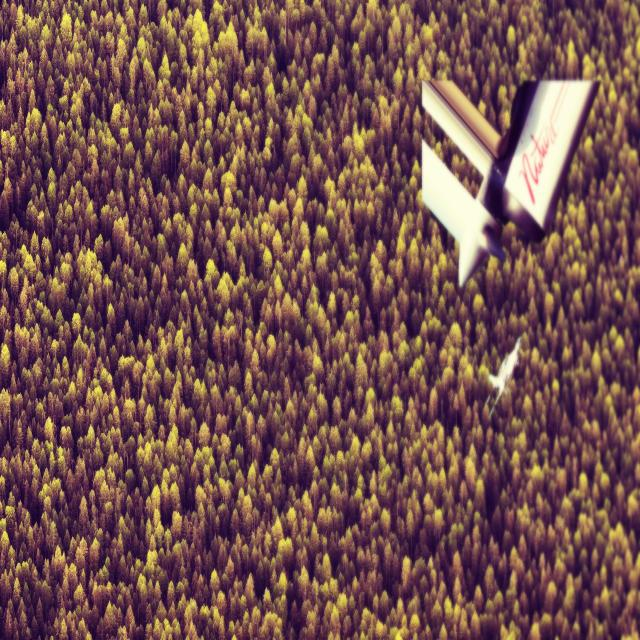airplane: (420, 75, 600, 288), (485, 335, 522, 419)
